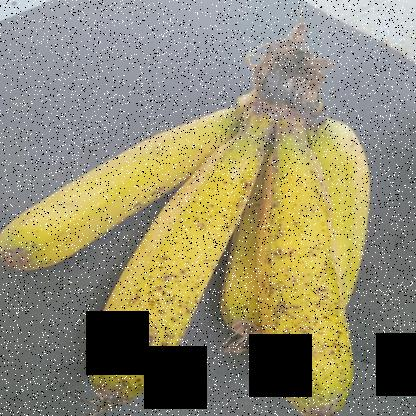ripe: (78, 149, 258, 404), (235, 140, 374, 416)
